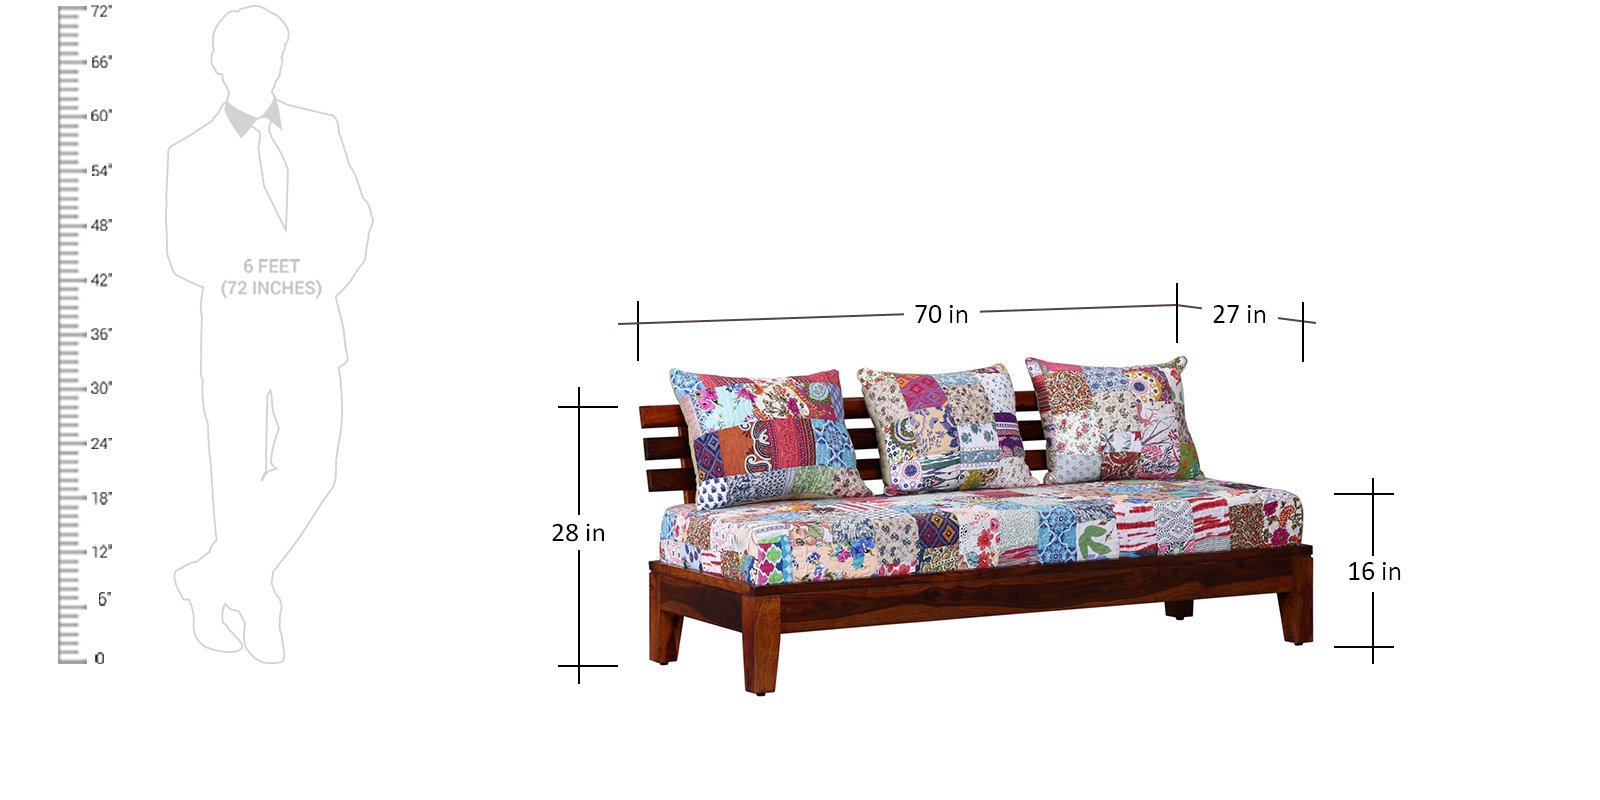Hayden Three Seater Sofa in Honey Oak Finish by Bohemiana: (624, 363, 1331, 695)
